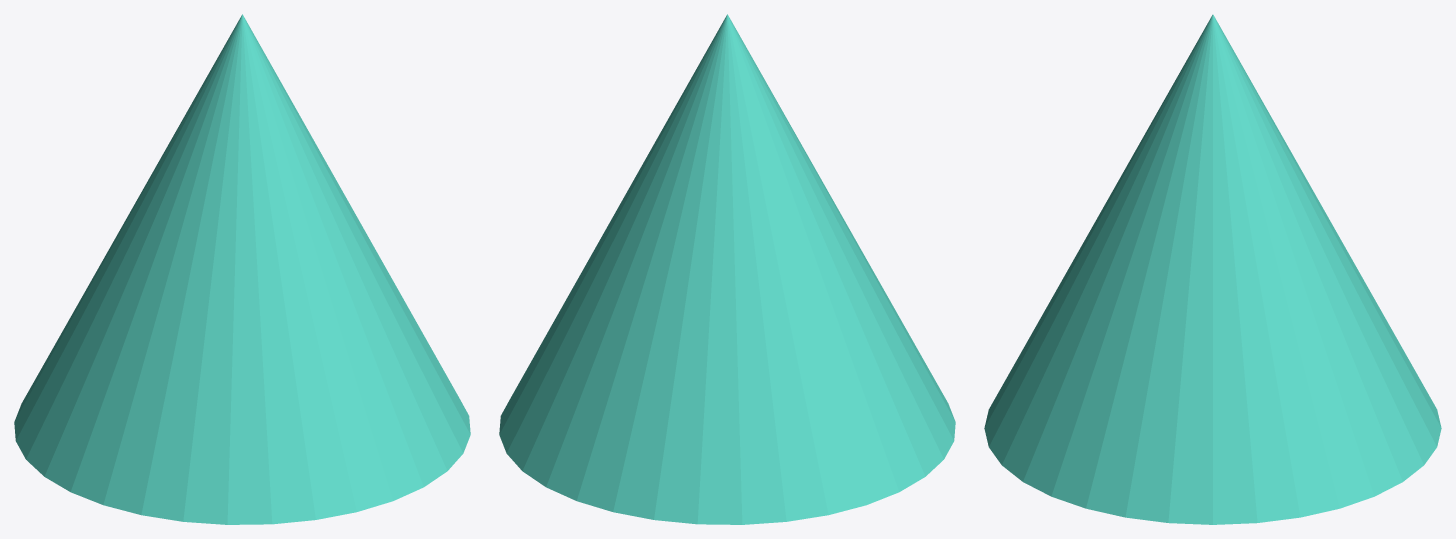
Rendered from davidCubeB1.gltf.
3 views of the same model, side by side, from view 1: azimuth 30°, elevation 25°; view 2: azimuth 150°, elevation 25°; view 3: azimuth 270°, elevation 25° (orthographic).
Visible parts, largest first — view 1: davidCubeB1; view 2: davidCubeB1; view 3: davidCubeB1.
Boxes of the visible parts, left/top/right/bottom form: davidCubeB1: left=14, top=14, right=470, bottom=524; davidCubeB1: left=499, top=14, right=955, bottom=524; davidCubeB1: left=984, top=14, right=1441, bottom=524.
Bounding box in the file's own units: 0.8652 × 0.8652 × 0.8652.
